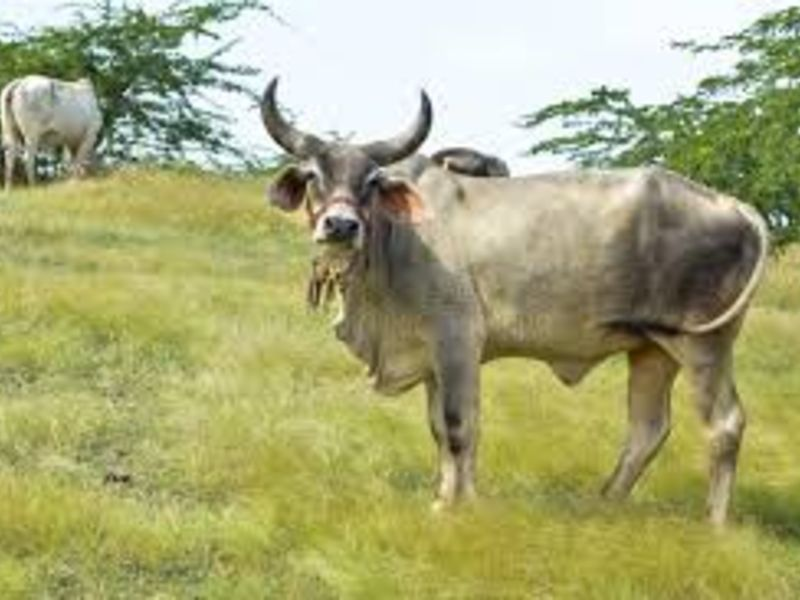cow: (254, 72, 761, 541)
